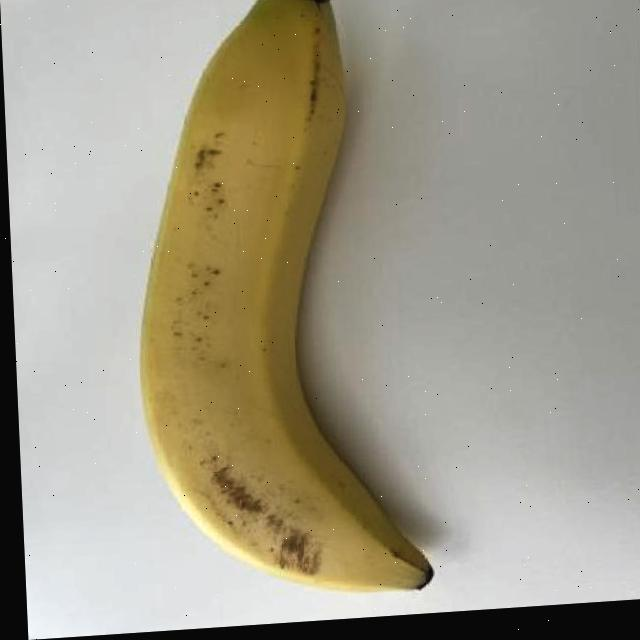banana: (119, 0, 443, 616)
